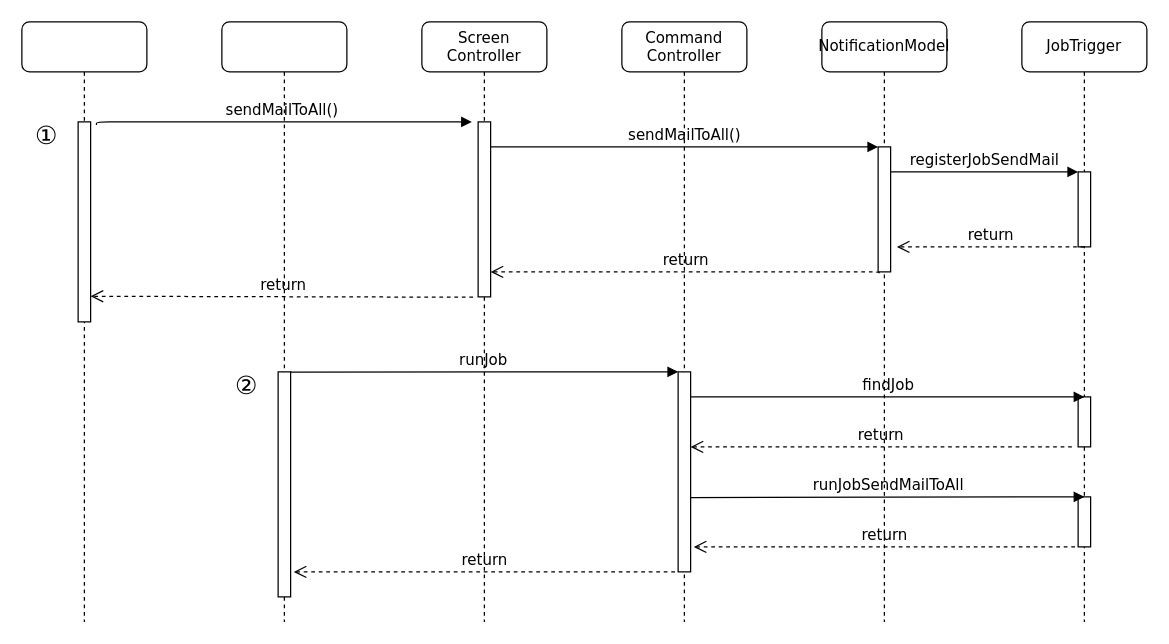
Some shapes in this 1169 by 644 pixel diagram are drawn without their labels. Each missing label, with the box of its shape:
Admin: (21, 21, 147, 622)
CronJob: (221, 21, 347, 622)
